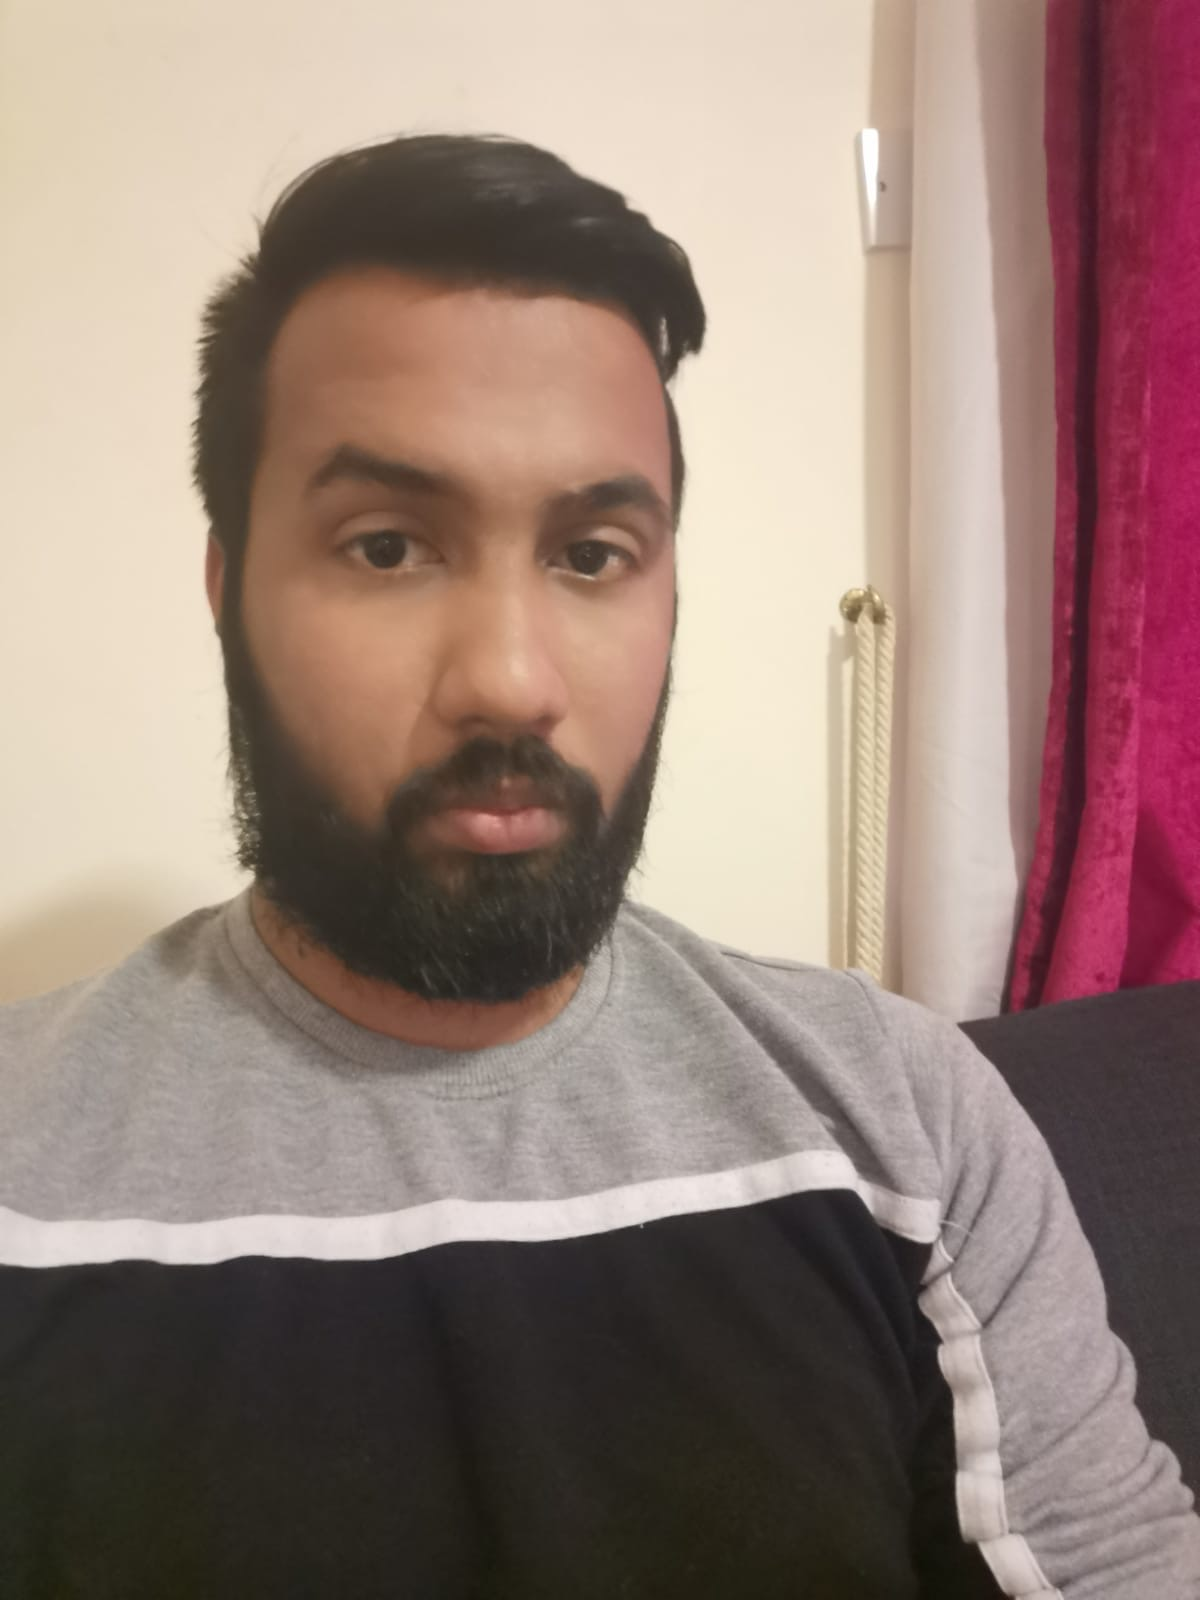Not Sleeping: (279, 485, 676, 614)
